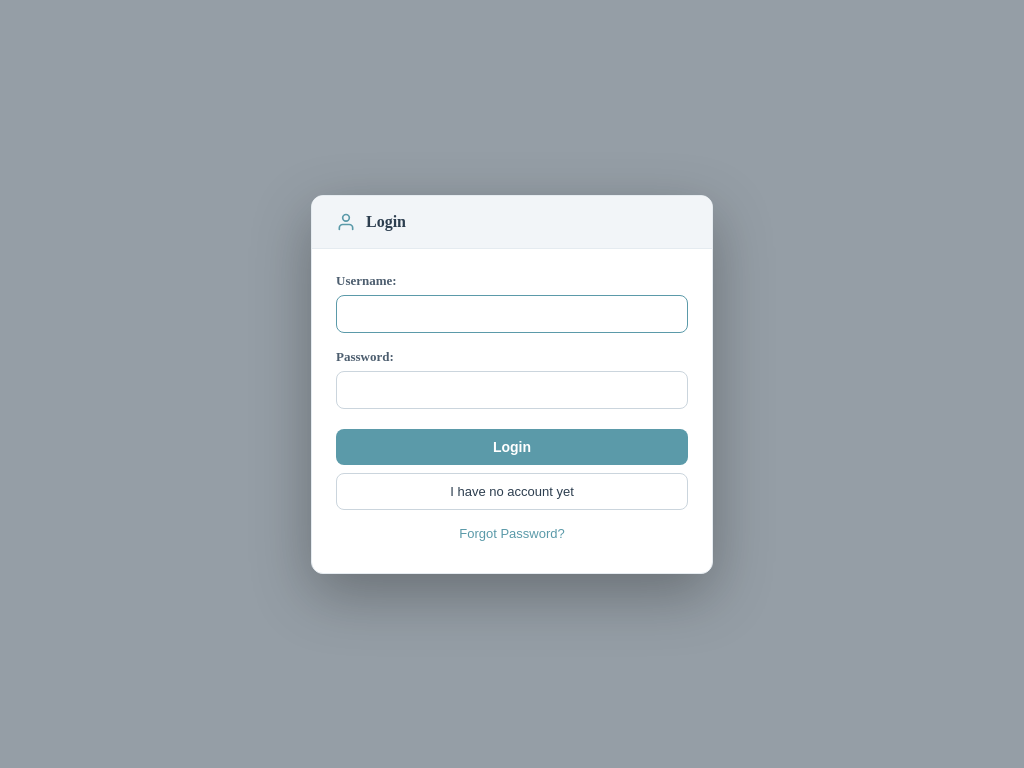
Test: LoginForm - Forgot Password Mode › switches to forgot password mode when button clicked
Click the button "Forgot Password?" at (512, 533), box left=336, top=518, right=688, bottom=548
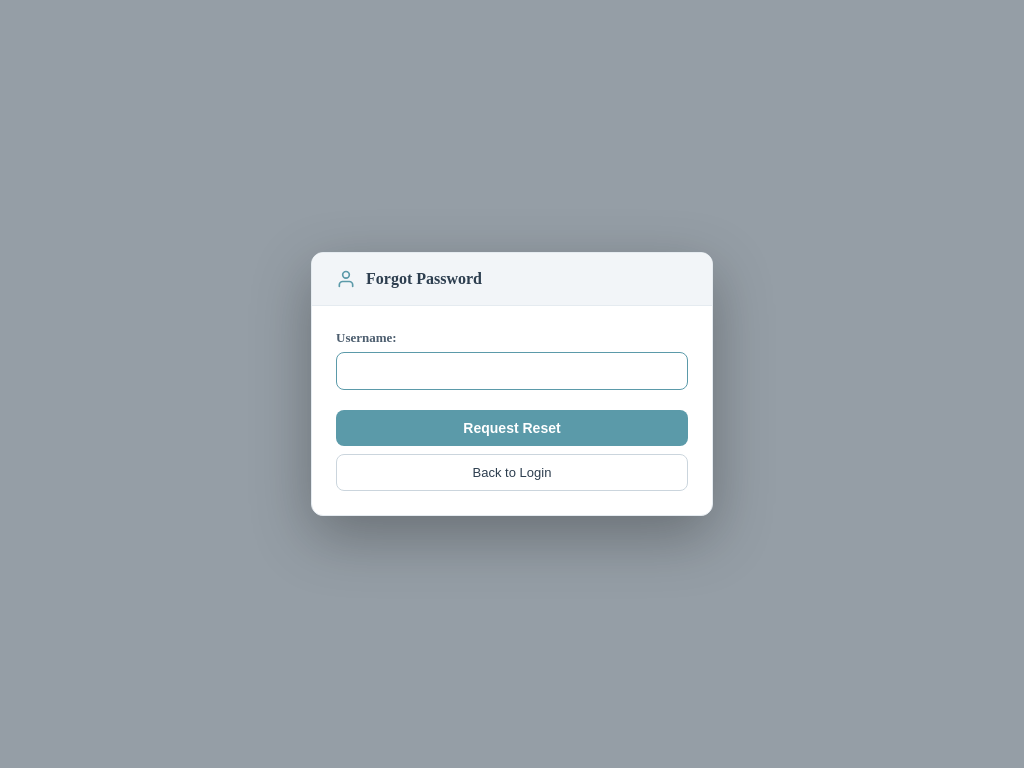
Check: the text "Username:" is shown, box left=336, top=330, right=397, bottom=345
Check: the heading "Forgot Password" is shown, box left=366, top=270, right=482, bottom=288
Check: the text "Password:" is gone
